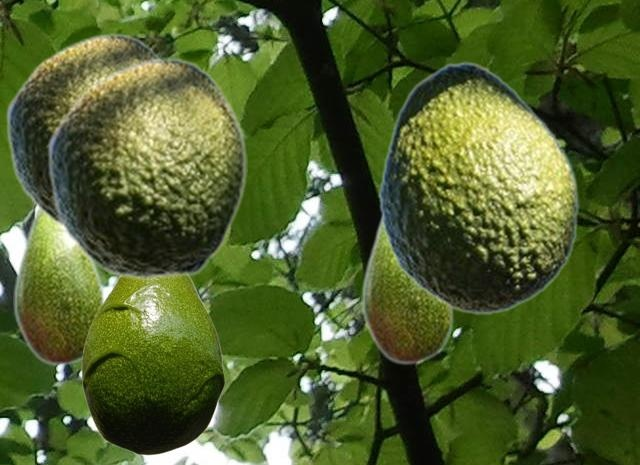avocado: (377, 61, 578, 314), (46, 57, 246, 278), (5, 33, 161, 230), (81, 277, 224, 454), (13, 207, 105, 366), (361, 212, 453, 365)
